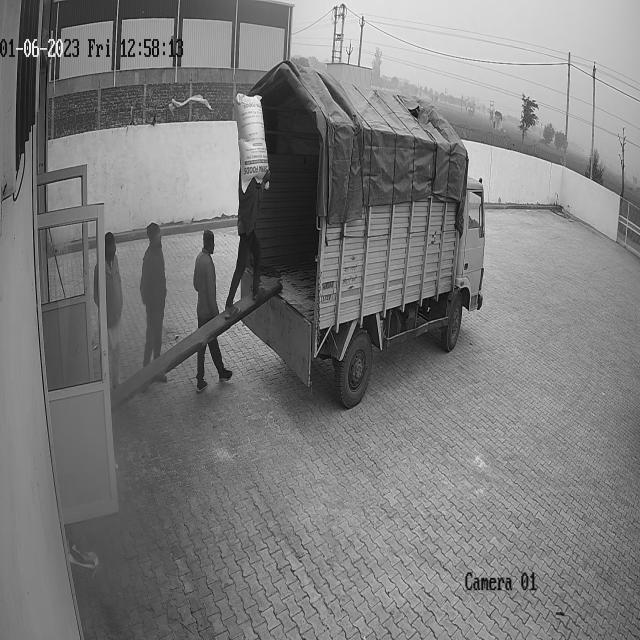sack: (233, 93, 268, 192)
